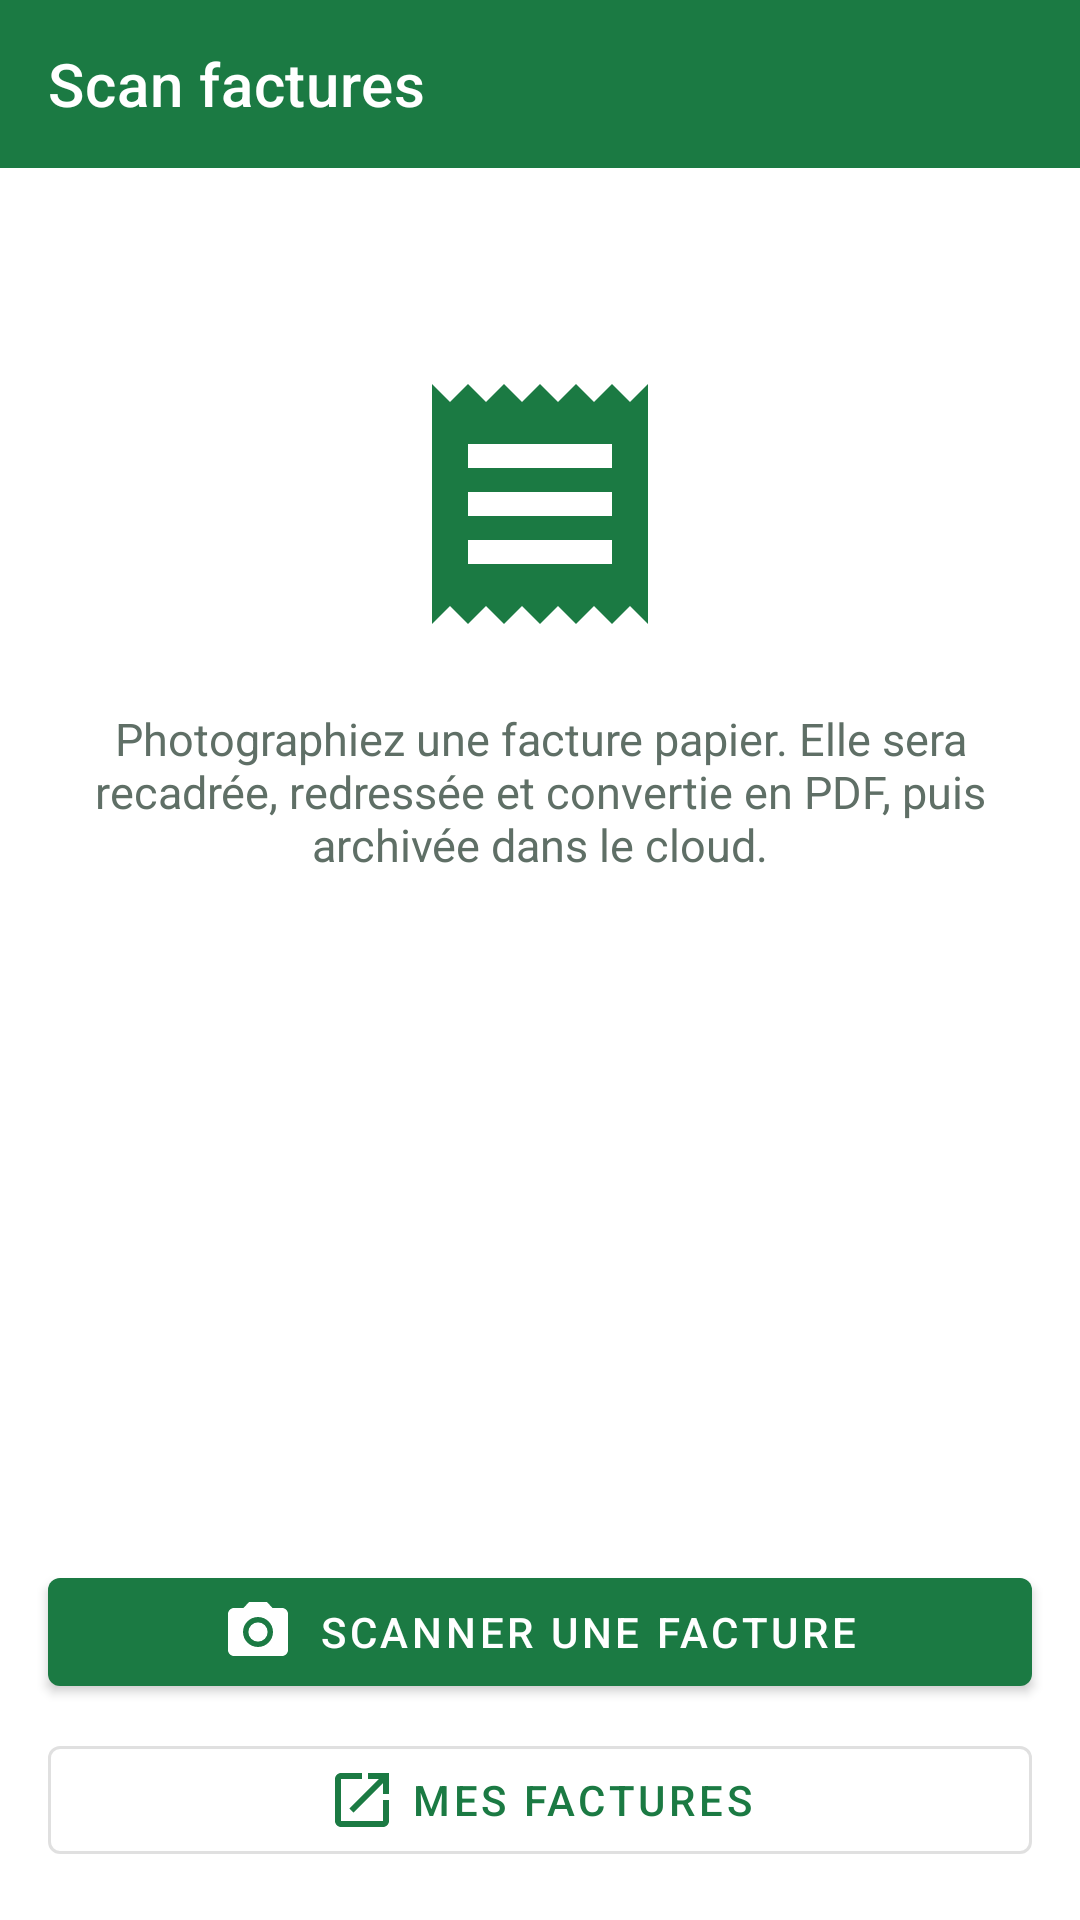

Screen size 1080 x 1920. Icon name, then its center in pixels as [x,y]:
Scan factures: [540,504]
